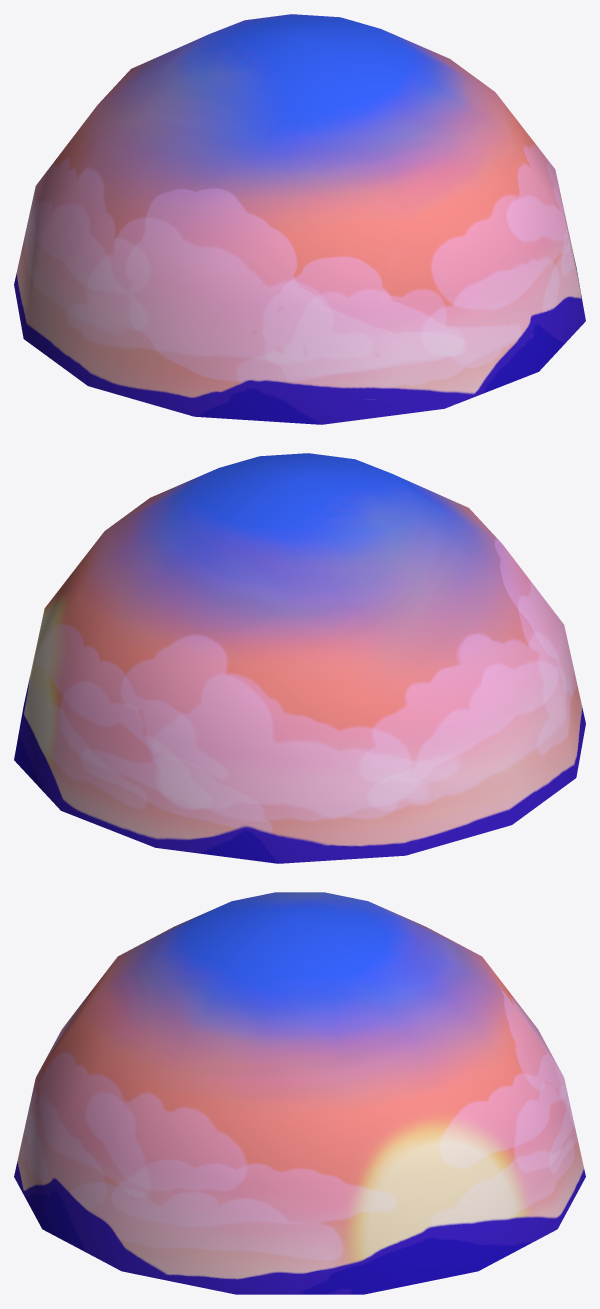
The model's file is SkySphere.fbx.
3 views of the same model, one above another, from view 1: azimuth 30°, elevation 25°; view 2: azimuth 150°, elevation 25°; view 3: azimuth 270°, elevation 25° (orthographic).
Parts seen in each view (by area): view 1: Sphere; view 2: Sphere; view 3: Sphere.
Boxes of the visible parts, x1,y1,x2,y2 form: Sphere: (14,14,585,424); Sphere: (14,453,585,863); Sphere: (14,892,585,1294).
Size of the model in its own units: 2181 by 1119 by 2237.
1 material, 1 textured.
